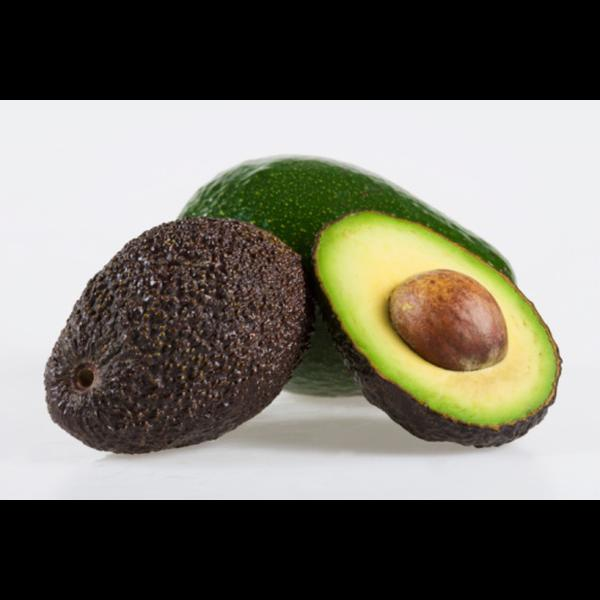ripe: (44, 218, 314, 454)
unripe: (175, 154, 517, 397)
